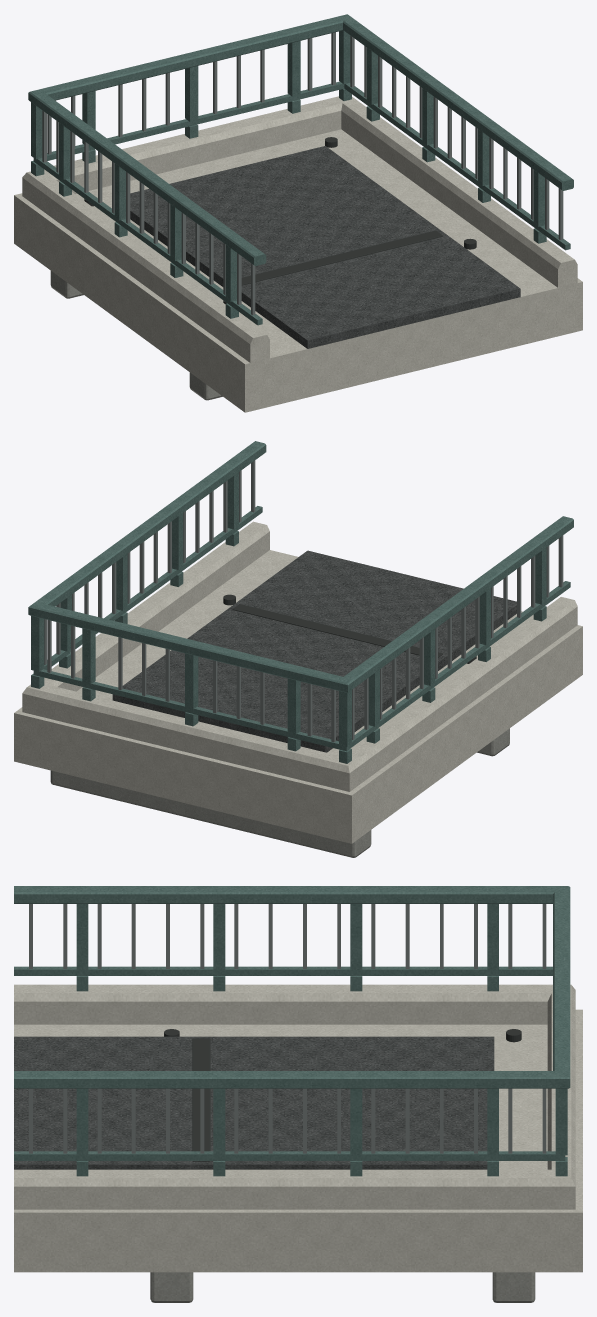
The model's file is BRG_LOCAL_DECK_1x1_END.glb.
The picture shows the model from 3 angles, top to bottom: view 1: azimuth 30°, elevation 25°; view 2: azimuth 150°, elevation 25°; view 3: azimuth 270°, elevation 25°; orthographic projection. The views are drawn at different scales.
Parts seen in each view (by area): view 1: BRG_LOCAL_DECK_1x1_END_Visual; view 2: BRG_LOCAL_DECK_1x1_END_Visual; view 3: BRG_LOCAL_DECK_1x1_END_Visual.
Boxes of the visible parts, bbox=[...] form: BRG_LOCAL_DECK_1x1_END_Visual: bbox=[14, 14, 582, 412]; BRG_LOCAL_DECK_1x1_END_Visual: bbox=[14, 441, 582, 857]; BRG_LOCAL_DECK_1x1_END_Visual: bbox=[14, 886, 582, 1302].
Size of what is drawn, in the model's own units: 1.46 by 0.775 by 1.73.
6 materials, 4 textured.
